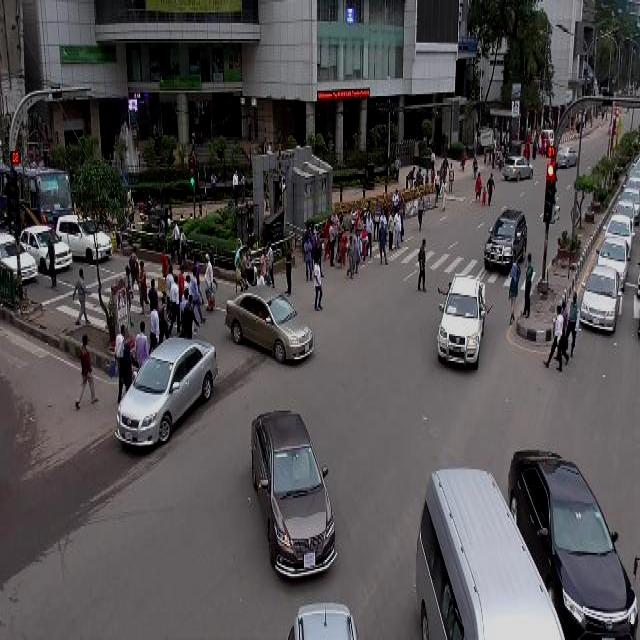black: (509, 449, 640, 640), (484, 204, 529, 268)
silver: (414, 466, 564, 640), (116, 342, 221, 447), (582, 262, 624, 337)
